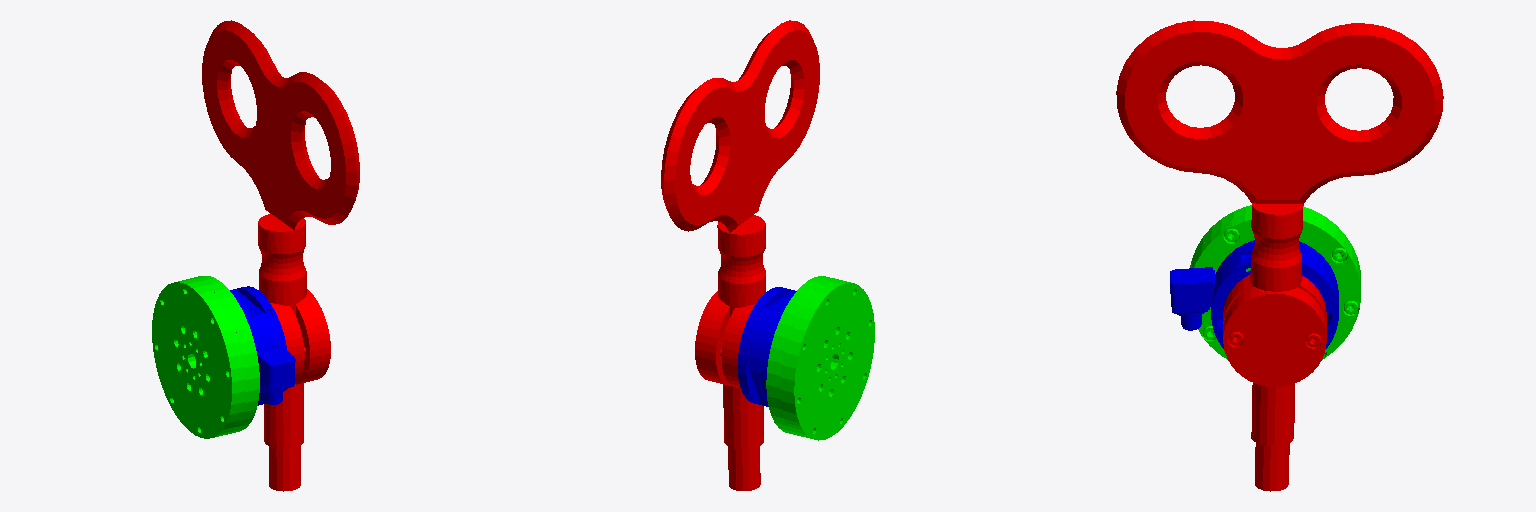
robot.urdf — kuka_kr16_2:
<?xml version="1.0" ?>
<!-- =================================================================================== -->
<!-- |    This document was autogenerated by xacro from kuka_tool.xacro                | -->
<!-- |    EDITING THIS FILE BY HAND IS NOT RECOMMENDED                                 | -->
<!-- =================================================================================== -->
<!--Generates a urdf from the macro in kr16_2_macro.xacro -->
<robot name="kuka_kr16_2" xmlns:xacro="http://wiki.ros.org/xacro">
  <!-- LINKS -->
  <!-- base link -->
  <link name="base_link">
    <inertial>
      <origin rpy="0 0 0" xyz="0 0 0"/>
      <mass value="2"/>
      <inertia ixx="0.01" ixy="0" ixz="0" iyy="0.01" iyz="0" izz="0.01"/>
    </inertial>
    <visual>
      <origin rpy="0 0 0" xyz="0 0 0"/>
      <geometry>
        <mesh filename="package://kuka_kr16_support/meshes/kr16_2/visual/base_link.dae"/>
      </geometry>
    </visual>
    <collision>
      <origin rpy="0 0 0" xyz="0 0 0"/>
      <geometry>
        <mesh filename="package://kuka_kr16_support/meshes/kr16_2/collision/base_link.stl"/>
      </geometry>
    </collision>
  </link>
  <!-- link 1 (A1) -->
  <link name="link_1">
    <inertial>
      <origin rpy="0 0 0" xyz="0 0 0"/>
      <mass value="2"/>
      <inertia ixx="0.01" ixy="0" ixz="0" iyy="0.01" iyz="0" izz="0.01"/>
    </inertial>
    <visual>
      <origin rpy="0 0 0" xyz="0 0 0"/>
      <geometry>
        <mesh filename="package://kuka_kr16_support/meshes/kr16_2/visual/link_1.dae"/>
      </geometry>
    </visual>
    <collision>
      <origin rpy="0 0 0" xyz="0 0 0"/>
      <geometry>
        <mesh filename="package://kuka_kr16_support/meshes/kr16_2/collision/link_1.stl"/>
      </geometry>
    </collision>
  </link>
  <!-- link 2 -->
  <link name="link_2">
    <inertial>
      <origin rpy="0 0 0" xyz="0 0 0"/>
      <mass value="2"/>
      <inertia ixx="0.01" ixy="0" ixz="0" iyy="0.01" iyz="0" izz="0.01"/>
    </inertial>
    <visual>
      <origin rpy="0 0 0" xyz="0 0 0"/>
      <geometry>
        <mesh filename="package://kuka_kr16_support/meshes/kr16_2/visual/link_2.dae"/>
      </geometry>
    </visual>
    <collision>
      <origin rpy="0 0 0" xyz="0 0 0"/>
      <geometry>
        <mesh filename="package://kuka_kr16_support/meshes/kr16_2/collision/link_2.stl"/>
      </geometry>
    </collision>
  </link>
  <!-- link 3 -->
  <link name="link_3">
    <inertial>
      <origin rpy="0 0 0" xyz="0 0 0"/>
      <mass value="2"/>
      <inertia ixx="0.01" ixy="0" ixz="0" iyy="0.01" iyz="0" izz="0.01"/>
    </inertial>
    <visual>
      <origin rpy="0 0 0" xyz="0 0 0"/>
      <geometry>
        <mesh filename="package://kuka_kr16_support/meshes/kr16_2/visual/link_3.dae"/>
      </geometry>
    </visual>
    <collision>
      <origin rpy="0 0 0" xyz="0 0 0"/>
      <geometry>
        <mesh filename="package://kuka_kr16_support/meshes/kr16_2/collision/link_3.stl"/>
      </geometry>
    </collision>
  </link>
  <!-- link 4 -->
  <link name="link_4">
    <inertial>
      <origin rpy="0 0 0" xyz="0 0 0"/>
      <mass value="2"/>
      <inertia ixx="0.01" ixy="0" ixz="0" iyy="0.01" iyz="0" izz="0.01"/>
    </inertial>
    <visual>
      <origin rpy="0 0 0" xyz="0 0 0"/>
      <geometry>
        <mesh filename="package://kuka_kr16_support/meshes/kr16_2/visual/link_4.dae"/>
      </geometry>
    </visual>
    <collision>
      <origin rpy="0 0 0" xyz="0 0 0"/>
      <geometry>
        <mesh filename="package://kuka_kr16_support/meshes/kr16_2/collision/link_4.stl"/>
      </geometry>
    </collision>
  </link>
  <!-- link 5 -->
  <link name="link_5">
    <inertial>
      <origin rpy="0 0 0" xyz="0 0 0"/>
      <mass value="2"/>
      <inertia ixx="0.01" ixy="0" ixz="0" iyy="0.01" iyz="0" izz="0.01"/>
    </inertial>
    <visual>
      <origin rpy="0 0 0" xyz="0 0 0"/>
      <geometry>
        <mesh filename="package://kuka_kr16_support/meshes/kr16_2/visual/link_5.dae"/>
      </geometry>
    </visual>
    <collision>
      <origin rpy="0 0 0" xyz="0 0 0"/>
      <geometry>
        <mesh filename="package://kuka_kr16_support/meshes/kr16_2/collision/link_5.stl"/>
      </geometry>
    </collision>
  </link>
  <!-- link 6 -->
  <link name="link_6">
    <inertial>
      <origin rpy="0 0 0" xyz="0 0 0"/>
      <mass value="2"/>
      <inertia ixx="0.01" ixy="0" ixz="0" iyy="0.01" iyz="0" izz="0.01"/>
    </inertial>
    <visual>
      <origin rpy="0 0 0" xyz="0 0 0"/>
      <geometry>
        <mesh filename="package://kuka_kr16_support/meshes/kr16_2/visual/link_6.dae"/>
      </geometry>
    </visual>
    <collision>
      <origin rpy="0 0 0" xyz="0 0 0"/>
      <geometry>
        <mesh filename="package://kuka_kr16_support/meshes/kr16_2/collision/link_6.stl"/>
      </geometry>
    </collision>
  </link>
  <!-- tool 0 -->
  <!-- This frame corresponds to the $FLANGE coordinate system in KUKA KRC controllers. -->
  <link name="tool0"/>
  <!-- flange link -->
  <link name="flange_link">
    <inertial>
      <origin rpy="0 0 0" xyz="-2.7886E-05 -0.00014096 0.010059"/>
      <mass value="0.1483"/>
      <inertia ixx="6.5965E-06" ixy="1.8314E-07" ixz="1.3017E-08" iyy="7.486E-06" iyz="6.5797E-08" izz="6.7095E-06"/>
    </inertial>
    <visual>
      <origin rpy="0 0 0" xyz="0 0 0"/>
      <geometry>
        <mesh filename="package://tool_tms2/meshes/flange_link.STL"/>
      </geometry>
      <material name="">
        <color rgba="0 1 0 1"/>
      </material>
    </visual>
    <collision>
      <origin rpy="0 0 0" xyz="0 0 0"/>
      <geometry>
        <mesh filename="package://tool_tms2/meshes/flange_link.STL"/>
      </geometry>
    </collision>
  </link>
  <!-- force link -->
  <link name="force_Link">
    <inertial>
      <origin rpy="0 0 0" xyz="0.0074099 0.0014123 -0.0020129"/>
      <mass value="0.071157"/>
      <inertia ixx="3.1053E-06" ixy="-4.0417E-06" ixz="-2.6779E-06" iyy="2.36E-05" iyz="-5.6239E-07" izz="2.2862E-05"/>
    </inertial>
    <visual>
      <origin rpy="0 0 0" xyz="0 0 0"/>
      <geometry>
        <mesh filename="package://tool_tms2/meshes/force_Link.STL"/>
      </geometry>
      <material name="">
        <color rgba="0 0 1 1"/>
      </material>
    </visual>
    <collision>
      <origin rpy="0 0 0" xyz="0 0 0"/>
      <geometry>
        <mesh filename="package://tool_tms2/meshes/force_Link.STL"/>
      </geometry>
    </collision>
  </link>
  <!-- tms link -->
  <link name="tms_Link">
    <inertial>
      <origin rpy="0 0 0" xyz="-1.0713E-10 0.0095121 -0.063036"/>
      <mass value="0.27445"/>
      <inertia ixx="0.001356" ixy="-2.0876E-10" ixz="1.8499E-12" iyy="0.0013498" iyz="-2.0995E-07" izz="7.4545E-06"/>
    </inertial>
    <visual>
      <origin rpy="0 0 0" xyz="0 0 0"/>
      <geometry>
        <mesh filename="package://tool_tms2/meshes/tms_Link.STL"/>
      </geometry>
      <material name="">
        <color rgba="1 0 0 1"/>
      </material>
    </visual>
    <collision>
      <origin rpy="0 0 0" xyz="0 0 0"/>
      <geometry>
        <mesh filename="package://tool_tms2/meshes/tms_Link.STL"/>
      </geometry>
    </collision>
  </link>
  <link name="tmscoil"/>
  <!-- END LINKS -->
  <!-- JOINTS -->
  <!-- joint 1 (A1) -->
  <joint name="joint_a1" type="revolute">
    <origin rpy="0 0 0" xyz="0 0 0.675"/>
    <parent link="base_link"/>
    <child link="link_1"/>
    <axis xyz="0 0 -1"/>
    <limit effort="0" lower="-3.22885911619" upper="3.22885911619" velocity="2.72271363311"/>
  </joint>
  <!-- joint 2 (A2) -->
  <joint name="joint_a2" type="revolute">
    <origin rpy="0 0 0" xyz="0.26 0 0"/>
    <parent link="link_1"/>
    <child link="link_2"/>
    <axis xyz="0 1 0"/>
    <limit effort="0" lower="-2.70526034059" upper="0.610865238198" velocity="2.72271363311"/>
  </joint>
  <!-- joint 3 (A3) -->
  <joint name="joint_a3" type="revolute">
    <origin rpy="0 0 0" xyz="0.68 0 0"/>
    <parent link="link_2"/>
    <child link="link_3"/>
    <axis xyz="0 1 0"/>
    <limit effort="0" lower="-2.26892802759" upper="2.68780704807" velocity="2.72271363311"/>
  </joint>
  <!-- joint 4 (A4) -->
  <joint name="joint_a4" type="revolute">
    <origin rpy="0 0 0" xyz="0.67 0 -0.035"/>
    <parent link="link_3"/>
    <child link="link_4"/>
    <axis xyz="-1 0 0"/>
    <limit effort="0" lower="-6.10865238198" upper="6.10865238198" velocity="5.75958653158"/>
  </joint>
  <!-- joint 5 (A5) -->
  <joint name="joint_a5" type="revolute">
    <origin rpy="0 0 0" xyz="0 0 0"/>
    <parent link="link_4"/>
    <child link="link_5"/>
    <axis xyz="0 1 0"/>
    <limit effort="0" lower="-2.26892802759" upper="2.26892802759" velocity="5.75958653158"/>
  </joint>
  <!-- joint 6 (A6) -->
  <joint name="joint_a6" type="revolute">
    <origin rpy="0 0 0" xyz="0 0 0"/>
    <parent link="link_5"/>
    <child link="link_6"/>
    <axis xyz="-1 0 0"/>
    <limit effort="0" lower="-6.10865238198" upper="6.10865238198" velocity="10.7337748998"/>
  </joint>
  <!-- tool frame - fixed frame -->
  <joint name="joint_a6-tool0" type="fixed">
    <parent link="link_6"/>
    <child link="tool0"/>
    <origin rpy="0 1.57079632679 0" xyz="0.158 0 0"/>
  </joint>
  <joint name="tool0-flange" type="fixed">
    <parent link="tool0"/>
    <child link="flange_link"/>
    <origin rpy="-1.57079632679 0 3.14159265359" xyz="0 0 0"/>
  </joint>
  <!-- end efffector -->
  <joint name="flange" type="fixed">
    <origin rpy="1.5708 -1.5043 3.1416" xyz="0 -0.034 0"/>
    <parent link="flange_link"/>
    <child link="force_Link"/>
    <axis xyz="0 0 0"/>
  </joint>
  <joint name="force_tms" type="fixed">
    <origin rpy="-1.5708 -5.9611E-17 -3.0556" xyz="0 0 -0.0221"/>
    <parent link="force_Link"/>
    <child link="tms_Link"/>
    <axis xyz="0 0 0"/>
  </joint>
  <joint name="force_tms-tmscoil" type="fixed">
    <origin rpy="-1.57079632679 -1.57079632679 0" xyz="0 0 -0.15"/>
    <parent link="tms_Link"/>
    <child link="tmscoil"/>
  </joint>
  <!-- END JOINTS -->
  <!-- ROS base_link to KUKA $ROBROOT coordinate system transform -->
  <link name="base"/>
  <joint name="base_link-base" type="fixed">
    <parent link="base_link"/>
    <child link="base"/>
  </joint>
  <link name="base_dummy"/>
  <joint name="base_link-base_dummy" type="fixed">
    <origin rpy="-3.1416 0 -3.1416" xyz="0 0 0"/>
    <parent link="base_link"/>
    <child link="base_dummy"/>
  </joint>
</robot>

--- Facts derived from the render (not from the file) ---
The picture shows the robot from 3 angles, left to right: view 1: azimuth 30°, elevation 25°; view 2: azimuth 150°, elevation 25°; view 3: azimuth 270°, elevation 25°; orthographic projection.
Model kuka_kr16_2 with 14 links and 13 joints (6 revolute, 7 fixed), rooted at base_link, posed every joint at zero.
Visible links, largest first — view 1: tms_Link, flange_link, force_Link; view 2: tms_Link, flange_link, force_Link; view 3: tms_Link, flange_link, force_Link.
Boxes of the visible links, x1,y1,x2,y2 form: tms_Link: (202, 20, 359, 491); flange_link: (152, 276, 259, 438); force_Link: (230, 286, 295, 405); tms_Link: (661, 20, 819, 490); flange_link: (766, 276, 874, 440); force_Link: (738, 287, 796, 406); tms_Link: (1116, 20, 1443, 491); flange_link: (1190, 205, 1360, 359); force_Link: (1170, 240, 1338, 348).
Bounding box of the posed robot: 0.0826 × 0.1896 × 0.2967 m (x, y, z).
Meshes: 10 distinct files referenced, 3 mesh visuals loaded (3 binary STL); not drawn: 7 (reference not matched to a file when rendering).